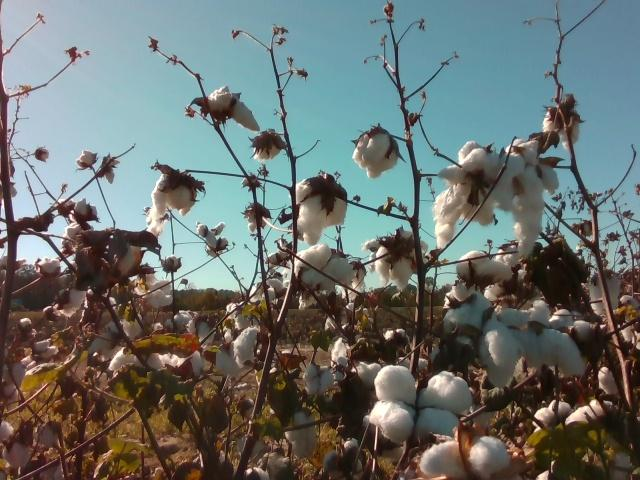cotton_ready: (371, 362, 475, 441), (444, 296, 520, 389), (506, 139, 561, 256), (436, 140, 507, 225), (519, 301, 588, 377), (421, 435, 510, 480), (364, 229, 429, 288), (295, 179, 348, 246), (452, 250, 512, 303), (295, 248, 354, 294), (208, 85, 260, 131), (352, 131, 401, 179), (333, 337, 379, 386), (216, 327, 260, 377), (566, 398, 614, 440), (151, 172, 197, 215), (148, 347, 203, 381), (285, 410, 319, 457), (532, 399, 570, 437), (544, 108, 581, 147), (435, 191, 457, 251), (588, 273, 621, 313), (106, 238, 138, 277), (304, 364, 334, 397), (253, 132, 284, 162)
